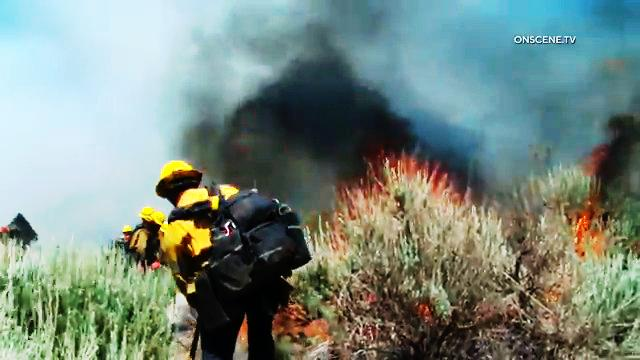smoke: (212, 26, 435, 165), (556, 98, 633, 186)
